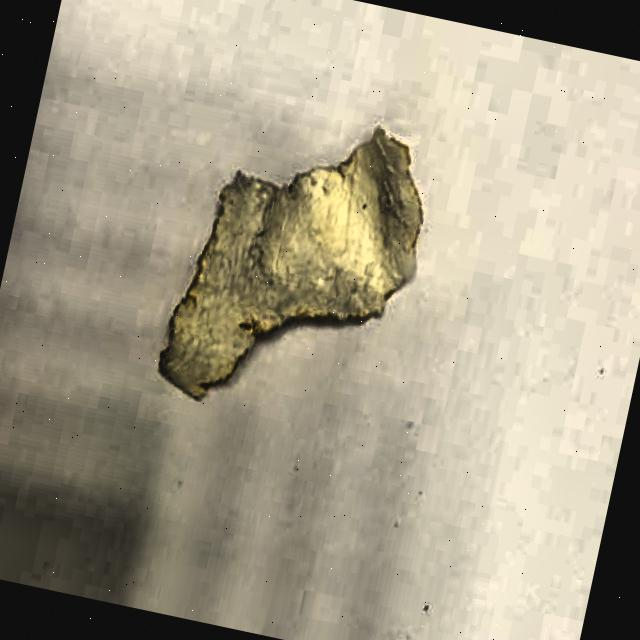trash: (157, 89, 433, 413)
